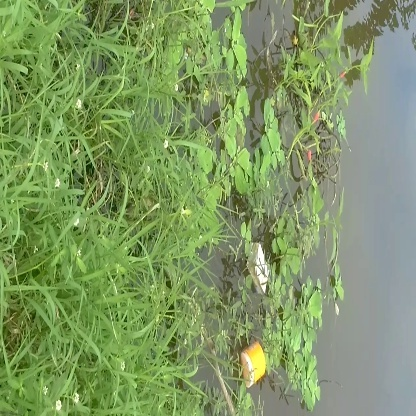bottle: (236, 338, 269, 387)
